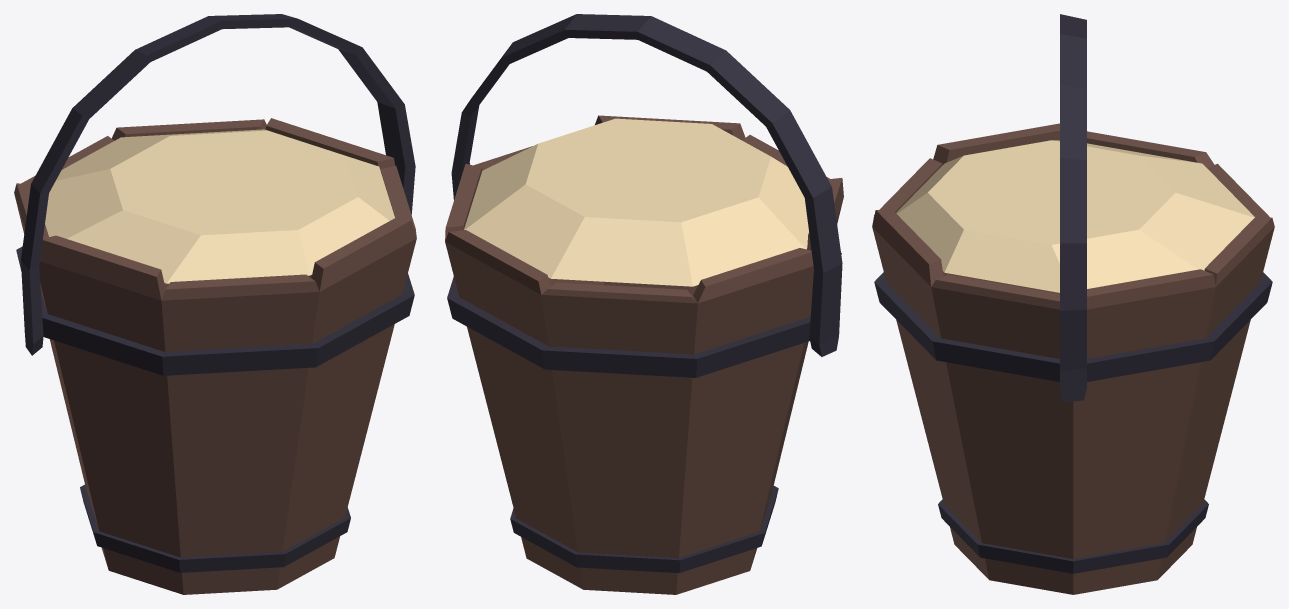
Rendered from bucket_of_flour.glb.
3 views of the same model, side by side, from view 1: azimuth 30°, elevation 25°; view 2: azimuth 150°, elevation 25°; view 3: azimuth 270°, elevation 25° (orthographic). The views are drawn at different scales.
Visible parts, largest first — view 1: bucket_of_flour; view 2: bucket_of_flour; view 3: bucket_of_flour.
Part boxes in pixels (<box>): bucket_of_flour: <box>14,14,416,594</box>; bucket_of_flour: <box>445,14,843,594</box>; bucket_of_flour: <box>872,14,1274,594</box>.
Size of the model in its own units: 0.3309 by 0.4335 by 0.3097.
